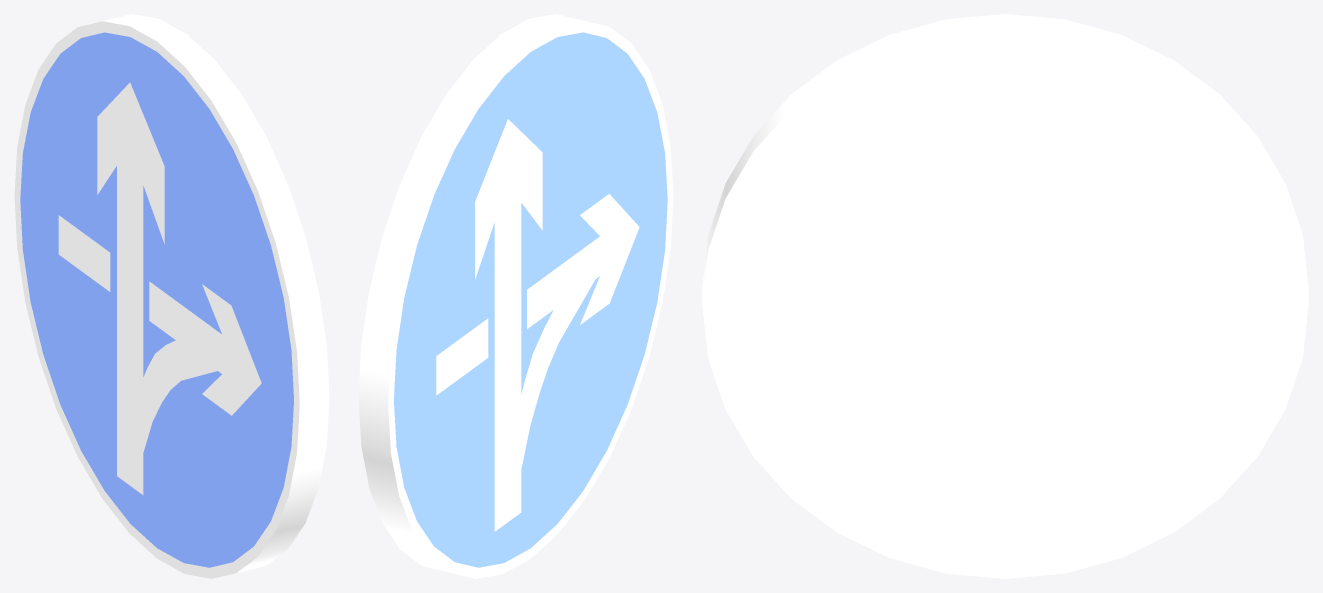
Rendered from Flyover_Straight_And_TurnRight.glb.
3 views of the same model, side by side, from view 1: azimuth 30°, elevation 25°; view 2: azimuth 150°, elevation 25°; view 3: azimuth 270°, elevation 25° (orthographic). The views are drawn at different scales.
Visible parts, largest first — view 1: Flyover_Straight_And_TurnRight; view 2: Flyover_Straight_And_TurnRight; view 3: Flyover_Straight_And_TurnRight.
Part boxes in pixels (x1,y1,x2,y2): Flyover_Straight_And_TurnRight: (14, 14, 329, 578); Flyover_Straight_And_TurnRight: (358, 14, 673, 578); Flyover_Straight_And_TurnRight: (702, 14, 1308, 578).
Size of the model in its own units: 0.0643 by 1 by 1.
